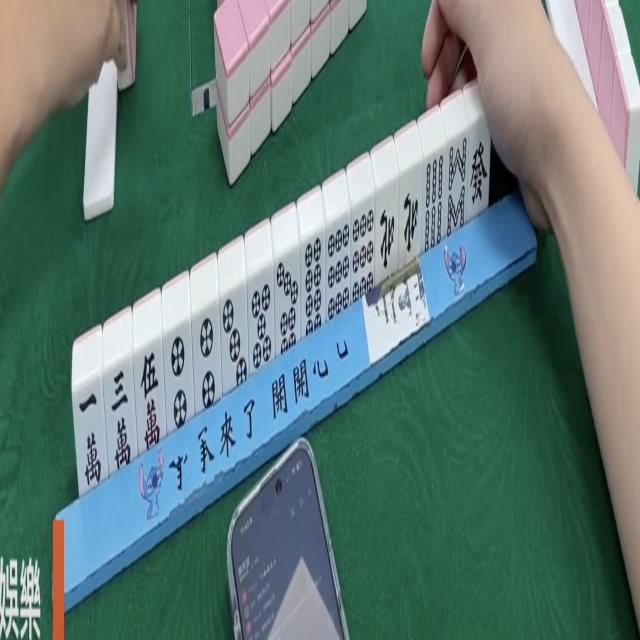fa: (470, 126, 488, 221)
m1: (70, 376, 110, 497)
m3: (108, 363, 134, 473)
m5: (137, 347, 166, 448)
north: (377, 174, 397, 278), (400, 169, 421, 257)
s6: (423, 153, 446, 251)
s8: (447, 139, 469, 241)
t2: (167, 331, 192, 436), (197, 302, 219, 418)
t3: (221, 284, 248, 396)
t5: (249, 270, 274, 374)
t7: (274, 255, 300, 358)
t8: (302, 238, 325, 344)
t9: (326, 224, 351, 322), (352, 206, 375, 308)
